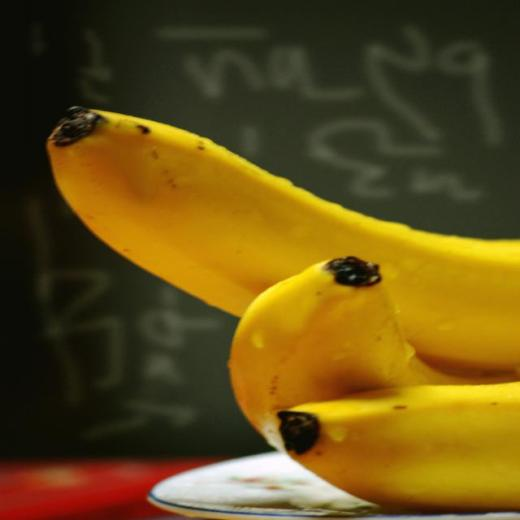Banana: (43, 102, 520, 372), (38, 103, 519, 368), (228, 256, 520, 454), (278, 380, 520, 512)
